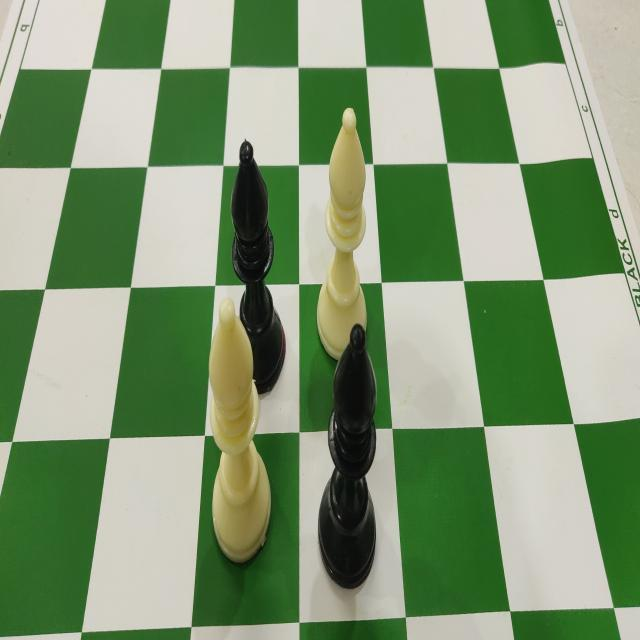black-bishop: (316, 323, 378, 592), (229, 142, 286, 394)
white-bishop: (207, 294, 272, 568), (316, 105, 368, 362)
